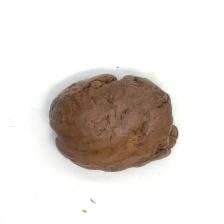NG: (60, 72, 172, 111), (151, 119, 179, 162), (47, 112, 66, 152)
